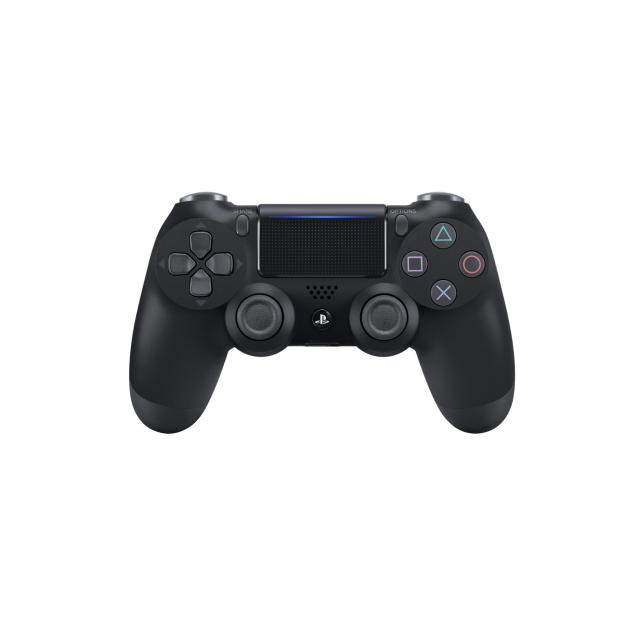ps4_controller: (134, 191, 534, 440)
